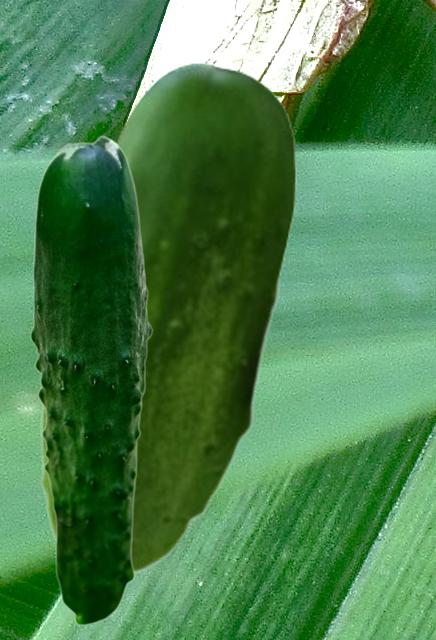cucumber: (40, 62, 295, 576), (29, 135, 152, 625)
